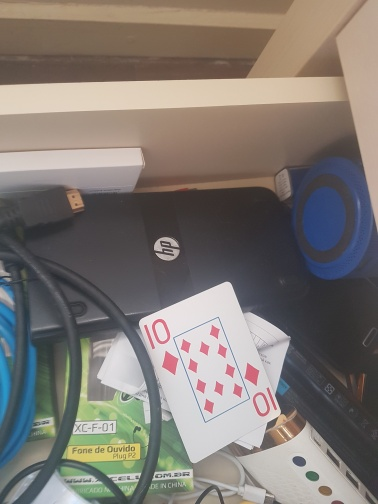ten: (140, 281, 283, 462)
